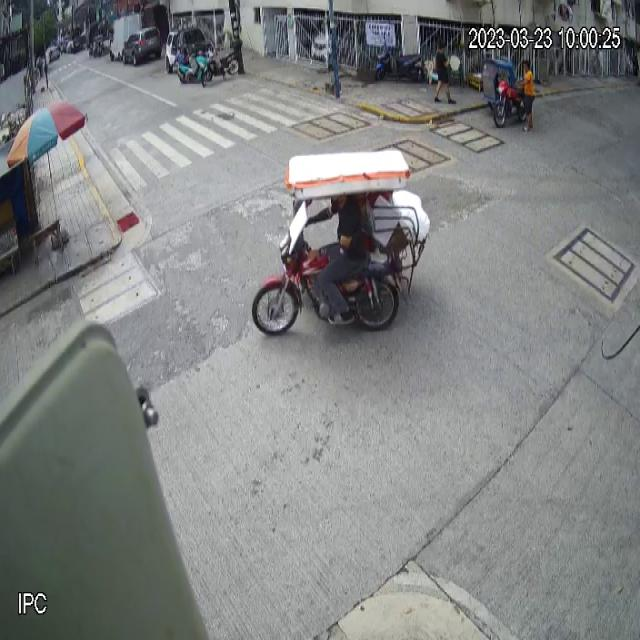Tricycle: (251, 148, 432, 337)
